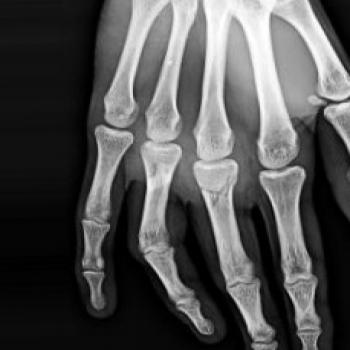Fracture: (196, 173, 241, 207)
